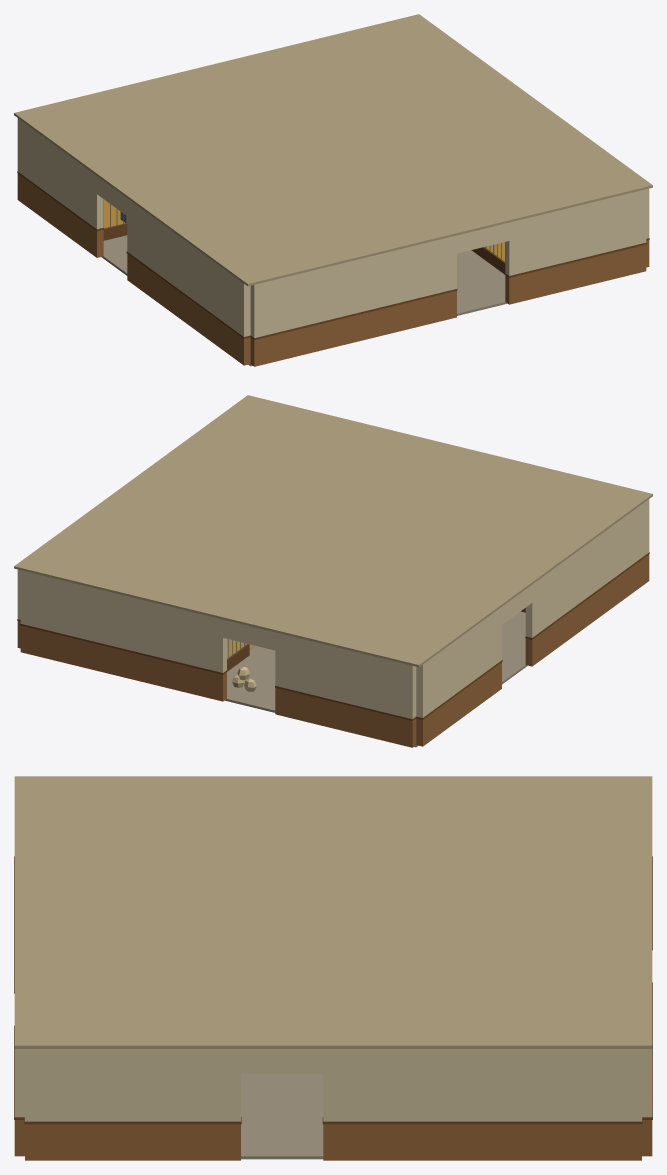
File: room_zoology_animal_holding.glb
3 renders of one model, top to bottom at view 1: azimuth 30°, elevation 25°; view 2: azimuth 150°, elevation 25°; view 3: azimuth 270°, elevation 25°, orthographic. The views are drawn at different scales.
Visible parts, largest first — view 1: room_zoology_animal_holding; view 2: room_zoology_animal_holding; view 3: room_zoology_animal_holding.
Part boxes in pixels (<box>): room_zoology_animal_holding: <box>14,14,652,366</box>; room_zoology_animal_holding: <box>14,395,652,747</box>; room_zoology_animal_holding: <box>14,776,652,1160</box>.
Bounding box in the file's own units: 18.62 × 3.8 × 18.64.
Materials: 1 (1 with a texture image).
